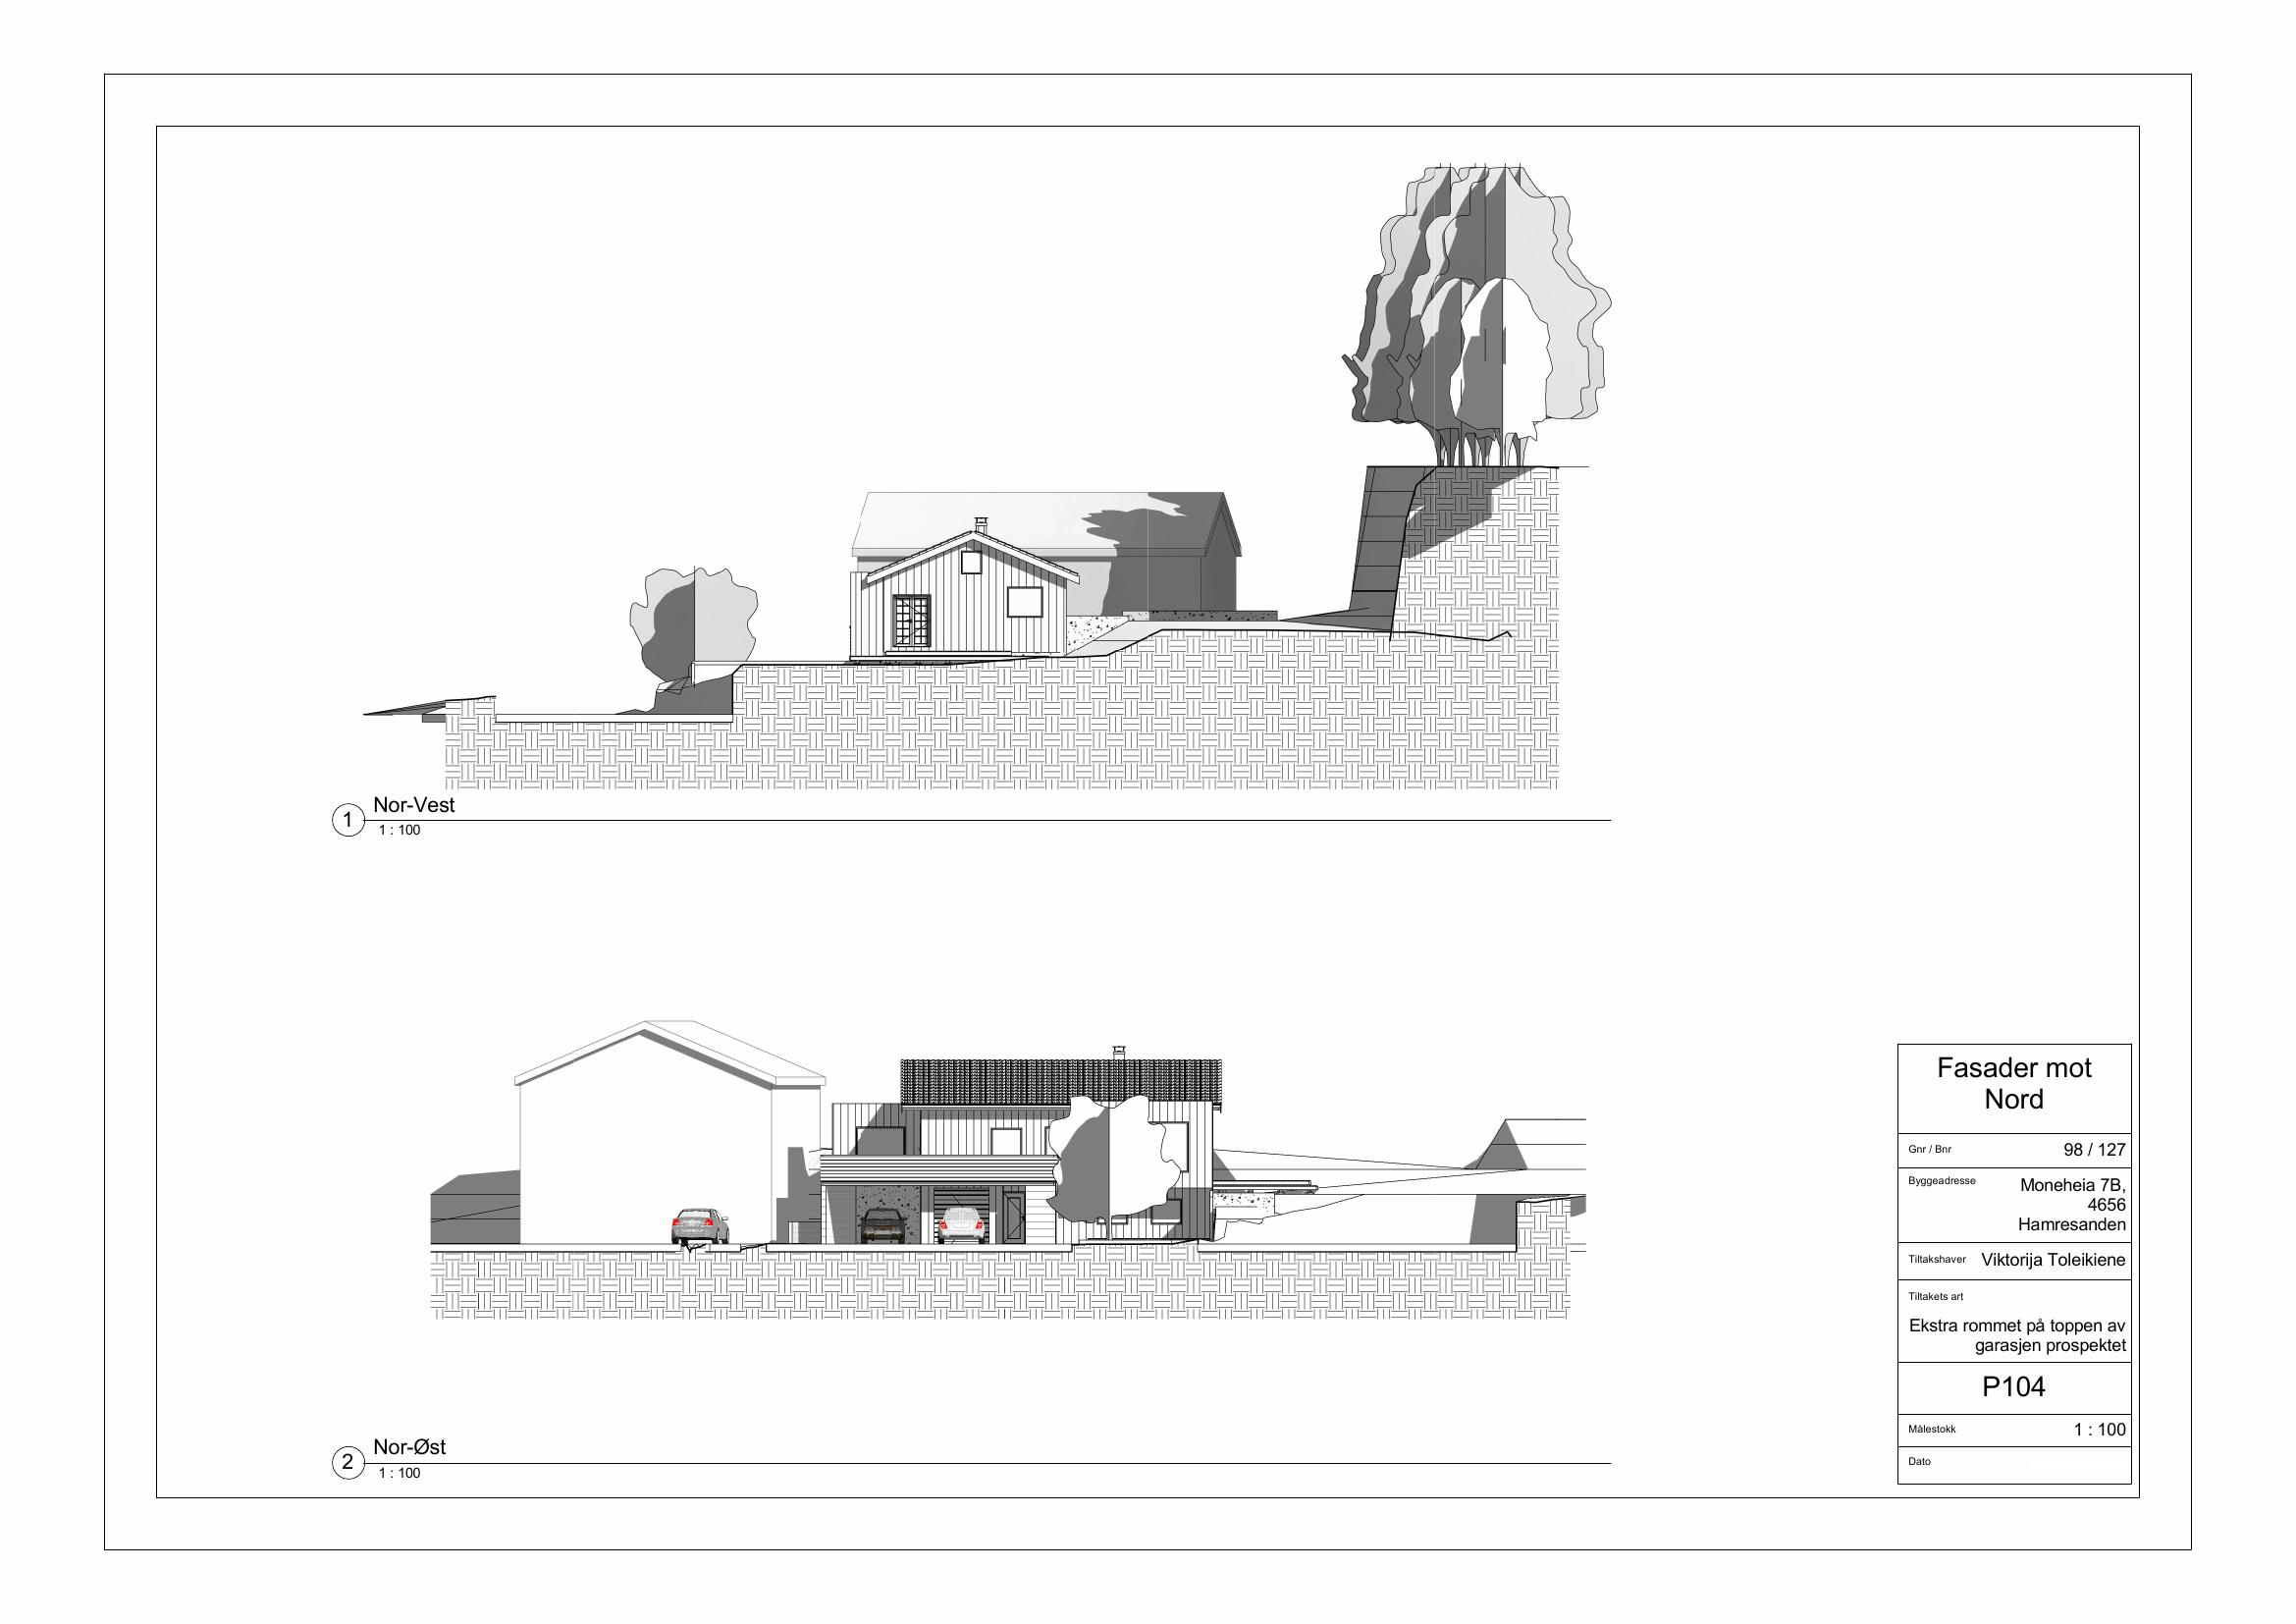fasade: (508, 1013, 1237, 1283), (846, 481, 1259, 669)
